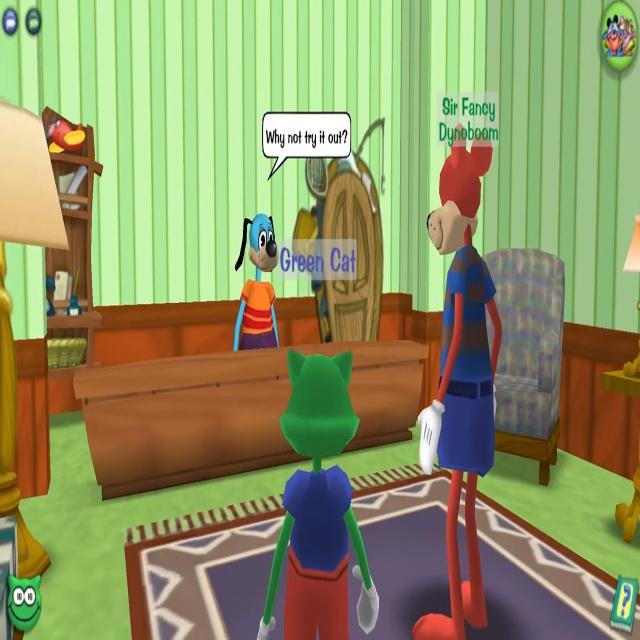npc: (228, 201, 288, 365)
